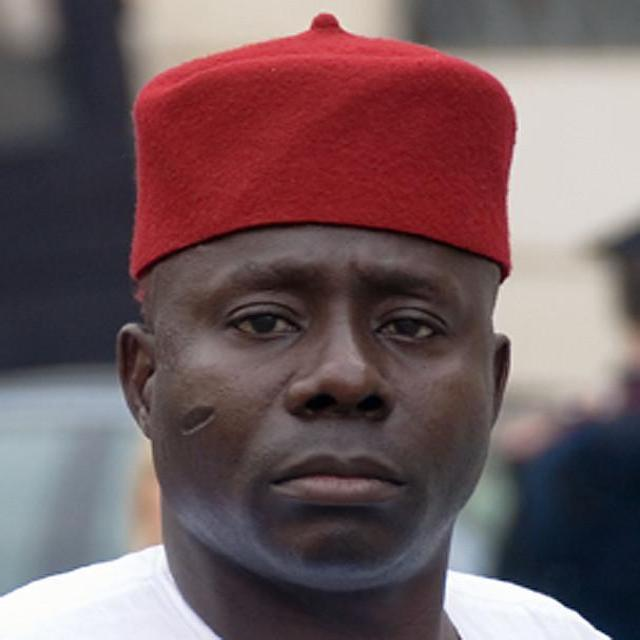no-glass: (214, 306, 441, 354)
